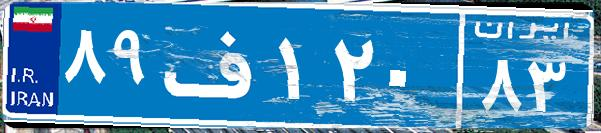0: (385, 28, 445, 110)
1: (273, 28, 330, 110)
2: (330, 28, 385, 110)
3: (525, 38, 570, 115)
8: (57, 26, 110, 107), (475, 38, 525, 113)
9: (110, 28, 158, 105)
ف: (158, 15, 273, 115)
